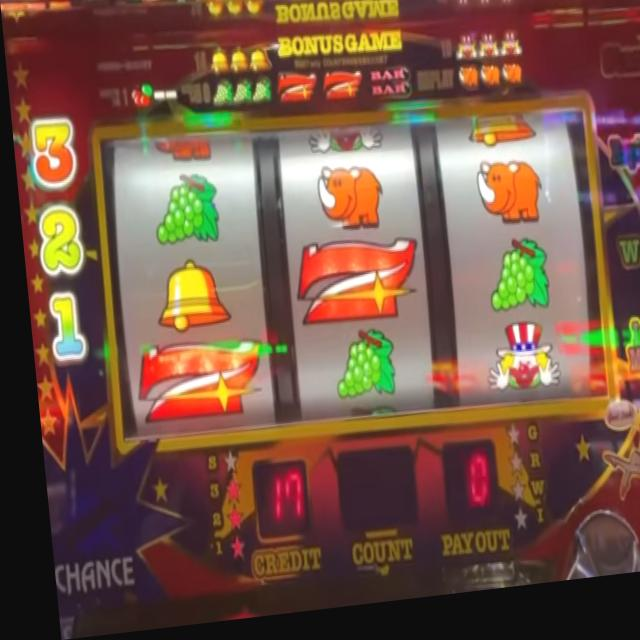bar: (96, 101, 601, 460), (366, 77, 408, 107)
bell: (148, 261, 223, 338), (225, 50, 246, 80), (247, 52, 268, 79), (209, 53, 227, 81)
cherry: (124, 84, 152, 113)
clown: (476, 327, 553, 408), (304, 135, 380, 169), (461, 128, 532, 164), (452, 43, 476, 73), (497, 41, 520, 70), (476, 44, 496, 72)
elephant: (311, 168, 380, 241), (470, 166, 539, 238), (148, 135, 209, 168), (455, 75, 477, 98), (478, 76, 498, 100), (501, 72, 518, 98)
grape: (144, 173, 217, 251), (479, 245, 544, 328), (321, 333, 387, 411), (209, 86, 231, 112), (251, 85, 269, 111), (230, 88, 250, 109)
z: (286, 239, 416, 337), (123, 339, 257, 429), (274, 74, 313, 112), (318, 78, 357, 111)
